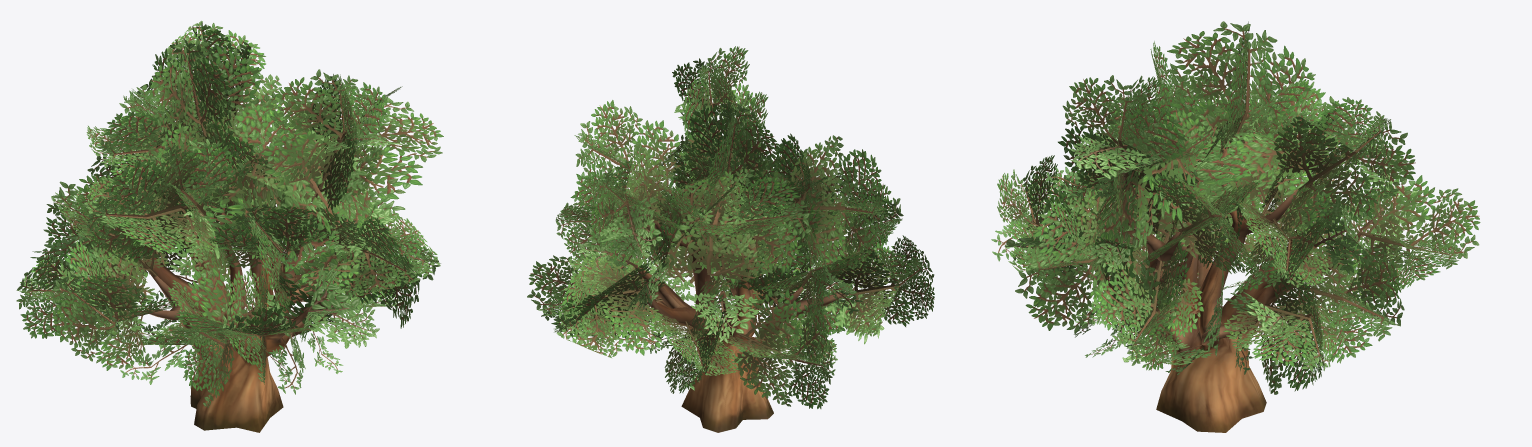
File: Tree03.fbx
3 views of the same model, side by side, from view 1: azimuth 30°, elevation 25°; view 2: azimuth 150°, elevation 25°; view 3: azimuth 270°, elevation 25° (orthographic). The views are drawn at different scales.
Parts seen in each view (by area): view 1: Tree03; view 2: Tree03; view 3: Tree03.
Boxes of the visible parts, x1,y1,x2,y2 form: Tree03: (16,21,443,432); Tree03: (527,46,934,432); Tree03: (991,21,1480,432).
Bounding box in the file's own units: 46.94 × 39.31 × 49.58.
